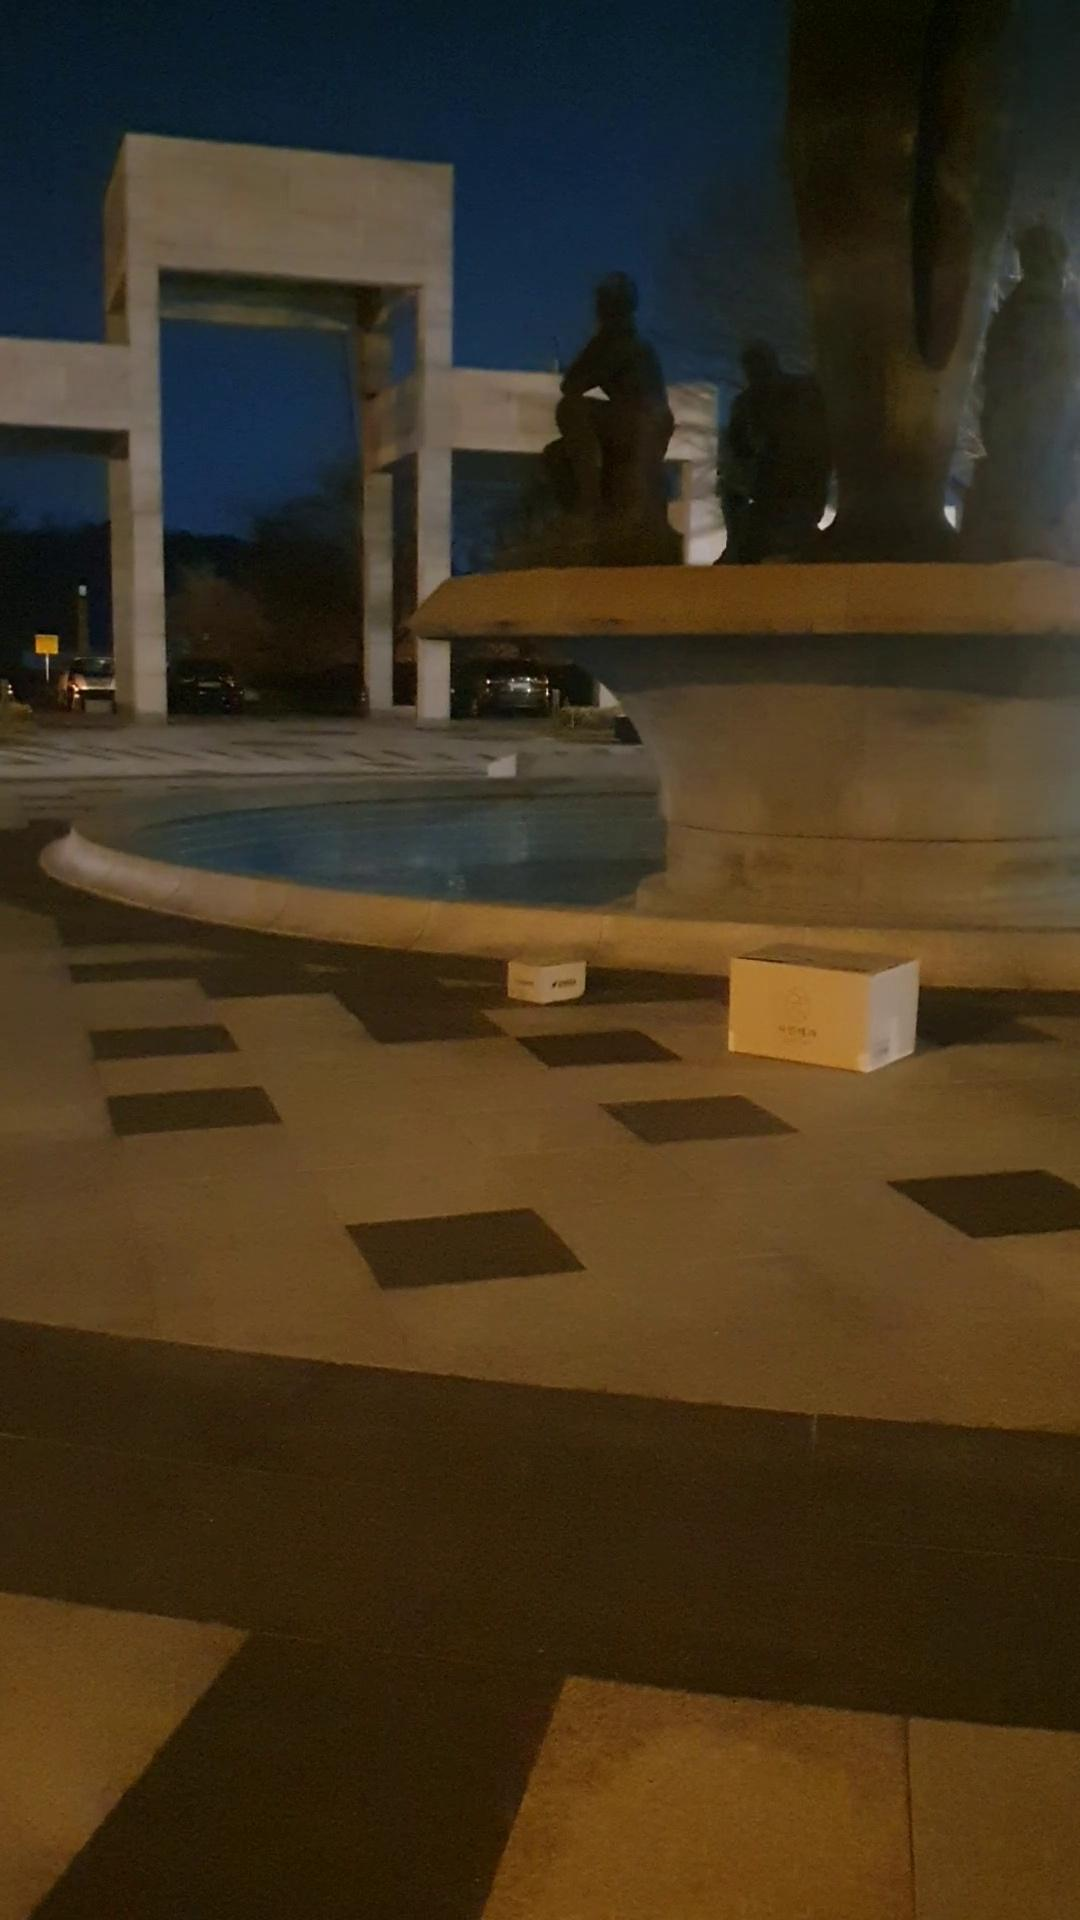Box: (716, 930, 935, 1087), (488, 943, 597, 1015)
